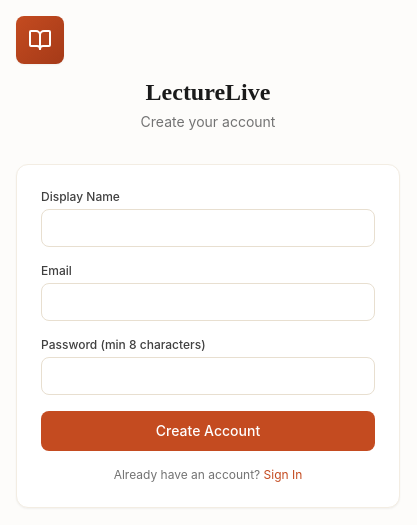
Test: RegisterPage — 验证邮件发送失败态（#11） › 发信成功时仍是原来的「请查收」成功态
Type "张三" into the field below "Display Name".
click(208, 228); type("张三")  # box x1=41 y1=209 x2=375 y2=247
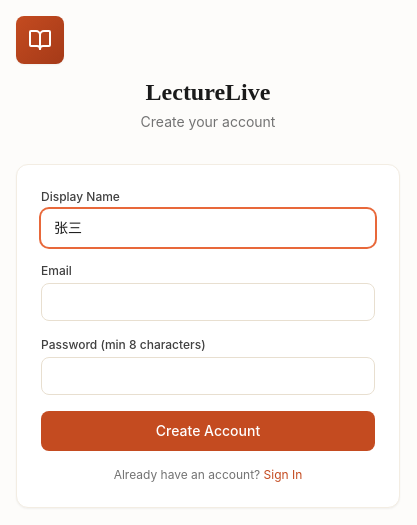
Type "user@example.com" into the field below "Email".
click(208, 302); type("user@example.com")  # box x1=41 y1=283 x2=375 y2=321
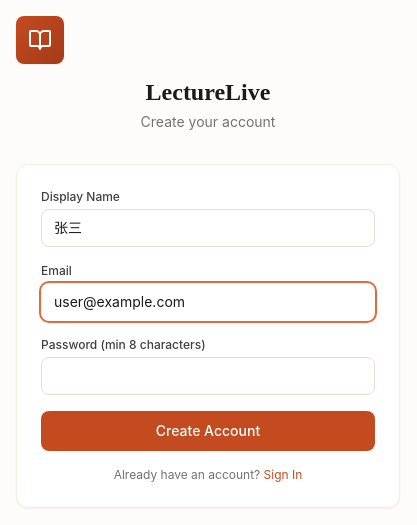
Type "passw0rd" into the password field.
click(208, 376); type("passw0rd")  # box x1=41 y1=357 x2=375 y2=395
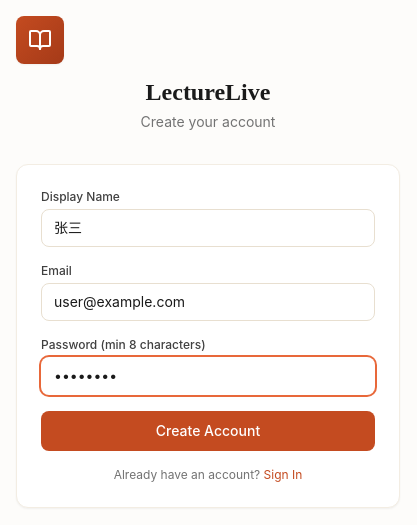
Click the button "Create Account".
click(208, 431)  # box x1=41 y1=411 x2=375 y2=451
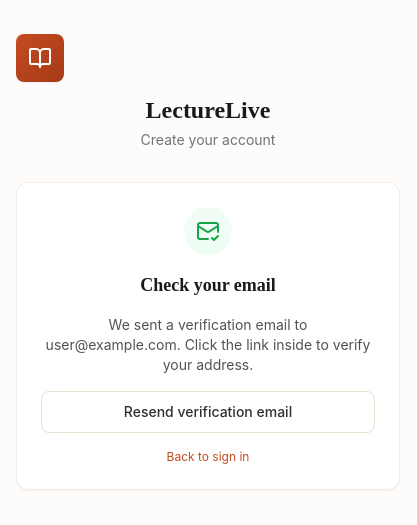
Expected: the heading "Check your email" is shown, x1=140 y1=275 x2=276 y2=295
